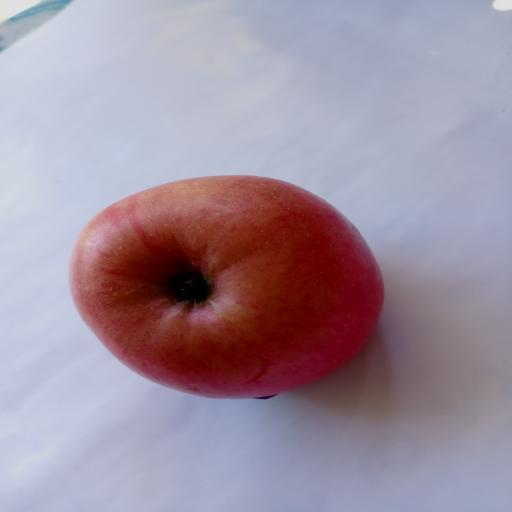apple-ripe: (56, 168, 391, 408)
